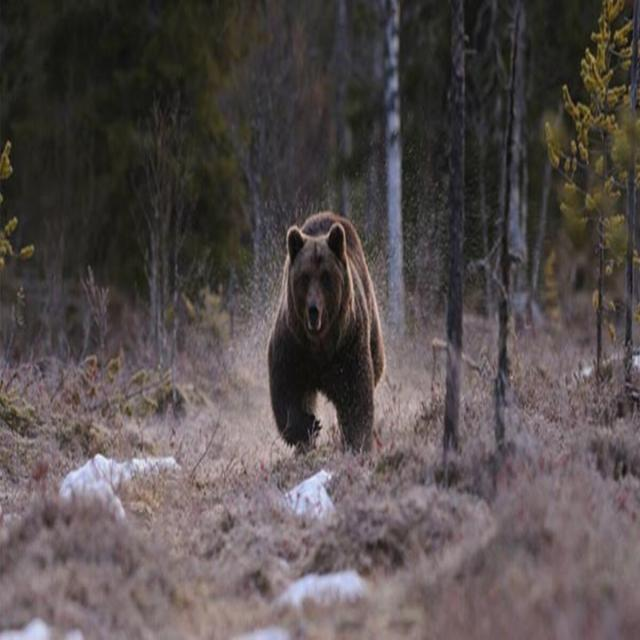Bear: (267, 212, 387, 452)
